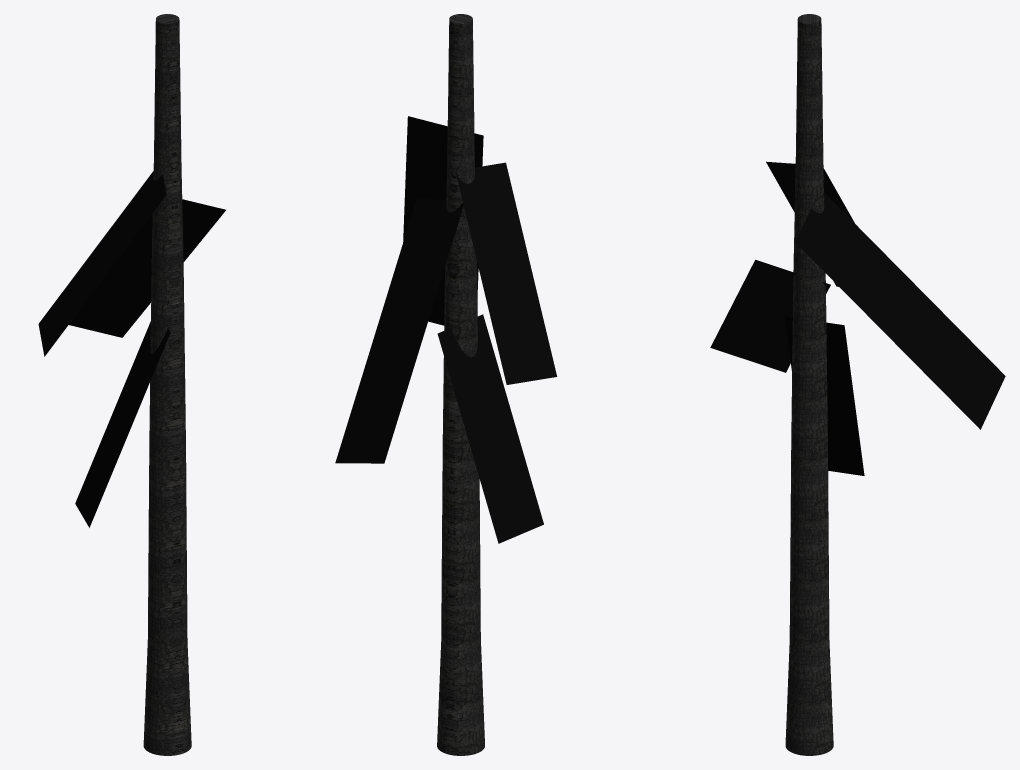
Rendered from burnt pine.fbx.
3 views of the same model, side by side, from view 1: azimuth 30°, elevation 25°; view 2: azimuth 150°, elevation 25°; view 3: azimuth 270°, elevation 25° (orthographic).
Visible parts, largest first — view 1: Cylinder, dead-tree-silhouette-1-421x1024, dead-tree-silhouette-1-421x1024.001, dead-tree-silhouette-1-421x1024.004; view 2: Cylinder, dead-tree-silhouette-1-421x1024, dead-tree-silhouette-1-421x1024.001, dead-tree-silhouette-1-421x1024.004, dead-tree-silhouette-1-421x1024.003; view 3: Cylinder, dead-tree-silhouette-1-421x1024, dead-tree-silhouette-1-421x1024.002, dead-tree-silhouette-1-421x1024.004, dead-tree-silhouette-1-421x1024.001.
Boxes of the visible parts, <box> form: Cylinder: <box>143,14,191,755</box>; dead-tree-silhouette-1-421x1024: <box>69,199,225,337</box>; dead-tree-silhouette-1-421x1024.001: <box>38,171,166,356</box>; dead-tree-silhouette-1-421x1024.004: <box>75,321,170,527</box>; Cylinder: <box>437,14,484,755</box>; dead-tree-silhouette-1-421x1024: <box>335,199,463,463</box>; dead-tree-silhouette-1-421x1024.001: <box>456,162,557,384</box>; dead-tree-silhouette-1-421x1024.004: <box>437,314,543,543</box>; dead-tree-silhouette-1-421x1024.003: <box>403,116,483,325</box>; Cylinder: <box>785,14,833,755</box>; dead-tree-silhouette-1-421x1024: <box>795,192,1005,429</box>; dead-tree-silhouette-1-421x1024.002: <box>710,259,830,372</box>; dead-tree-silhouette-1-421x1024.004: <box>784,316,864,475</box>; dead-tree-silhouette-1-421x1024.001: <box>766,161,854,286</box>.
Size of the model in its own units: 439 by 1127 by 415.
